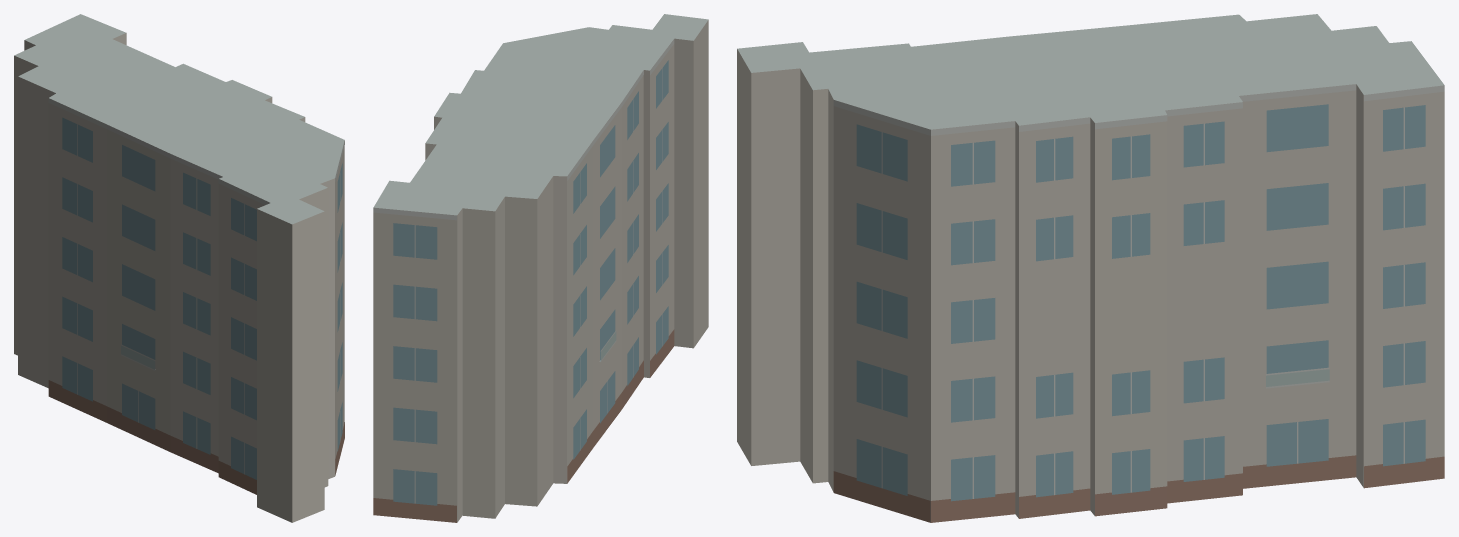
File: survey-upis-33020357.glb
3 views of the same model, side by side, from view 1: azimuth 30°, elevation 25°; view 2: azimuth 150°, elevation 25°; view 3: azimuth 270°, elevation 25° (orthographic). The views are drawn at different scales.
Visible parts, largest first — view 1: survey-upis-33020357.tmp; view 2: survey-upis-33020357.tmp; view 3: survey-upis-33020357.tmp.
Part boxes in pixels (left/top/right/bottom): survey-upis-33020357.tmp: left=14, top=14, right=344, bottom=522; survey-upis-33020357.tmp: left=373, top=14, right=708, bottom=522; survey-upis-33020357.tmp: left=737, top=14, right=1444, bottom=522.
Bounding box in the file's own units: 9.63 × 15.25 × 24.88.
